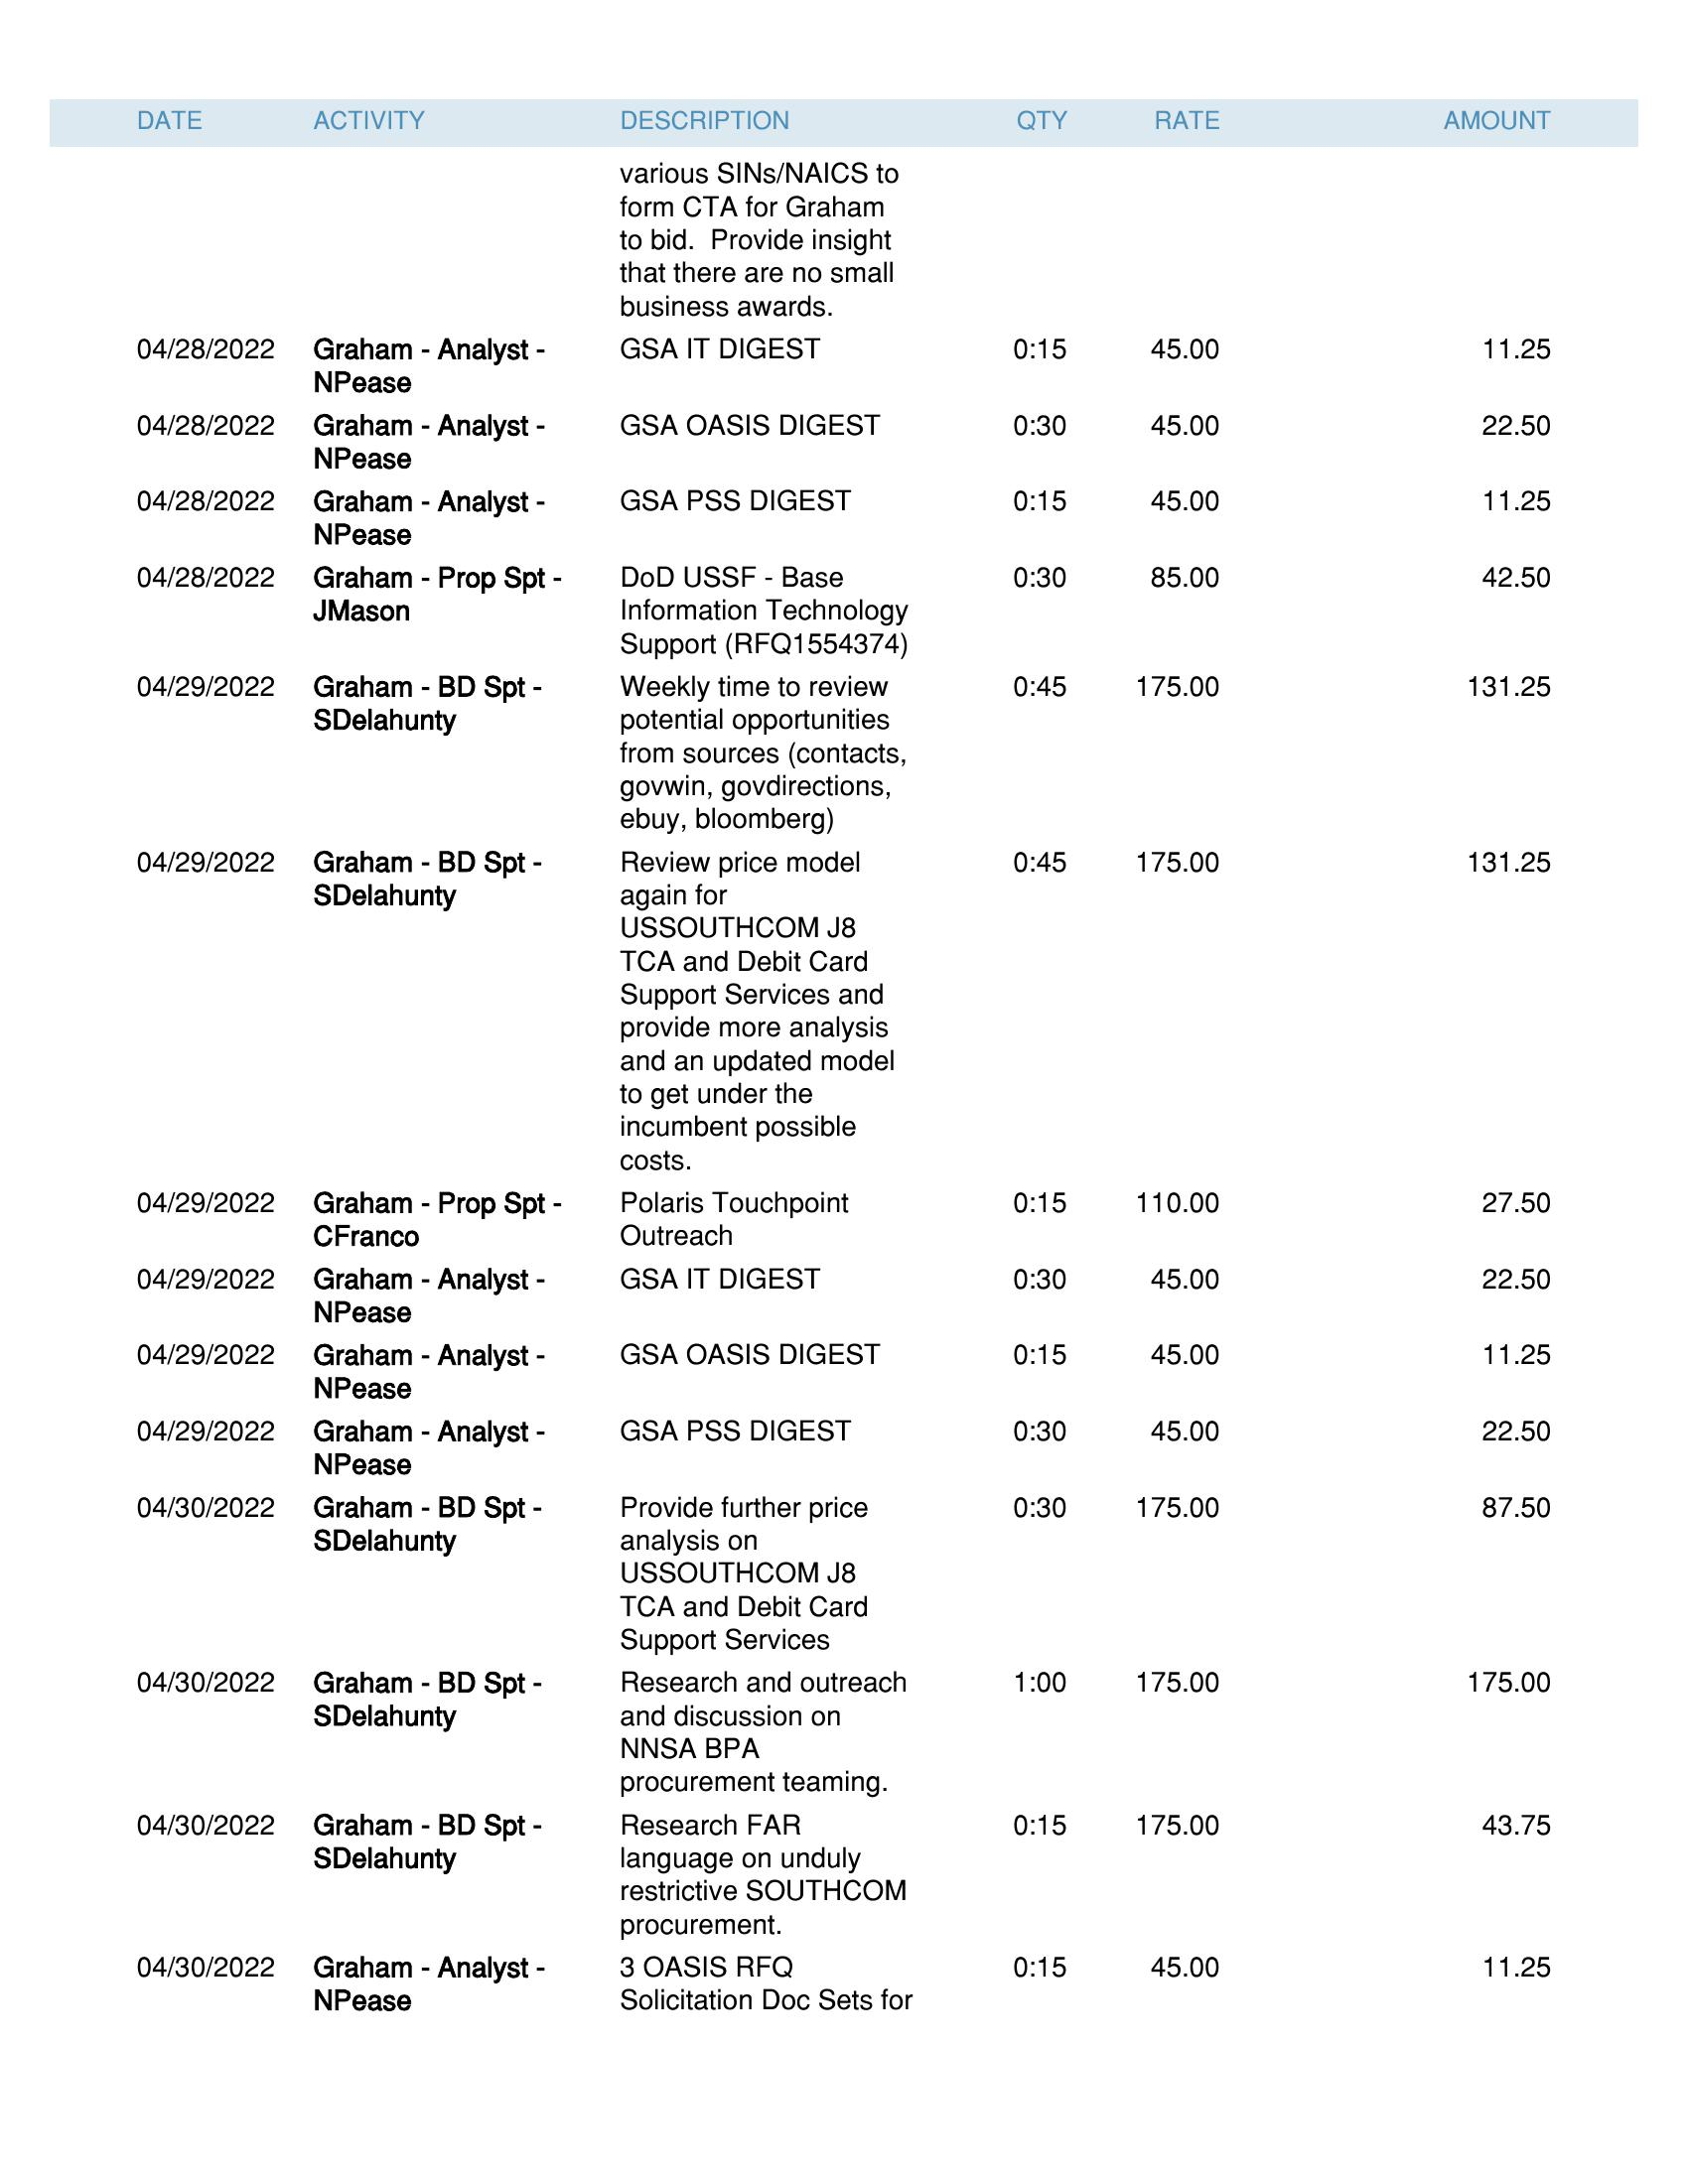table: (43, 80, 1638, 2063)
